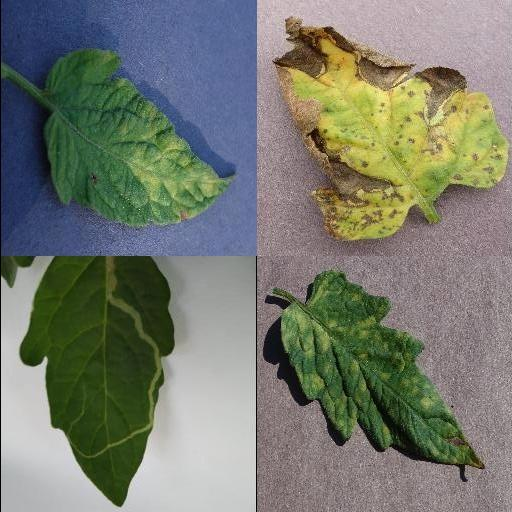Leaf Miner: (16, 256, 176, 507)
Leaf Mold: (283, 271, 485, 471), (41, 49, 239, 228)
Septoria: (275, 18, 511, 242)
